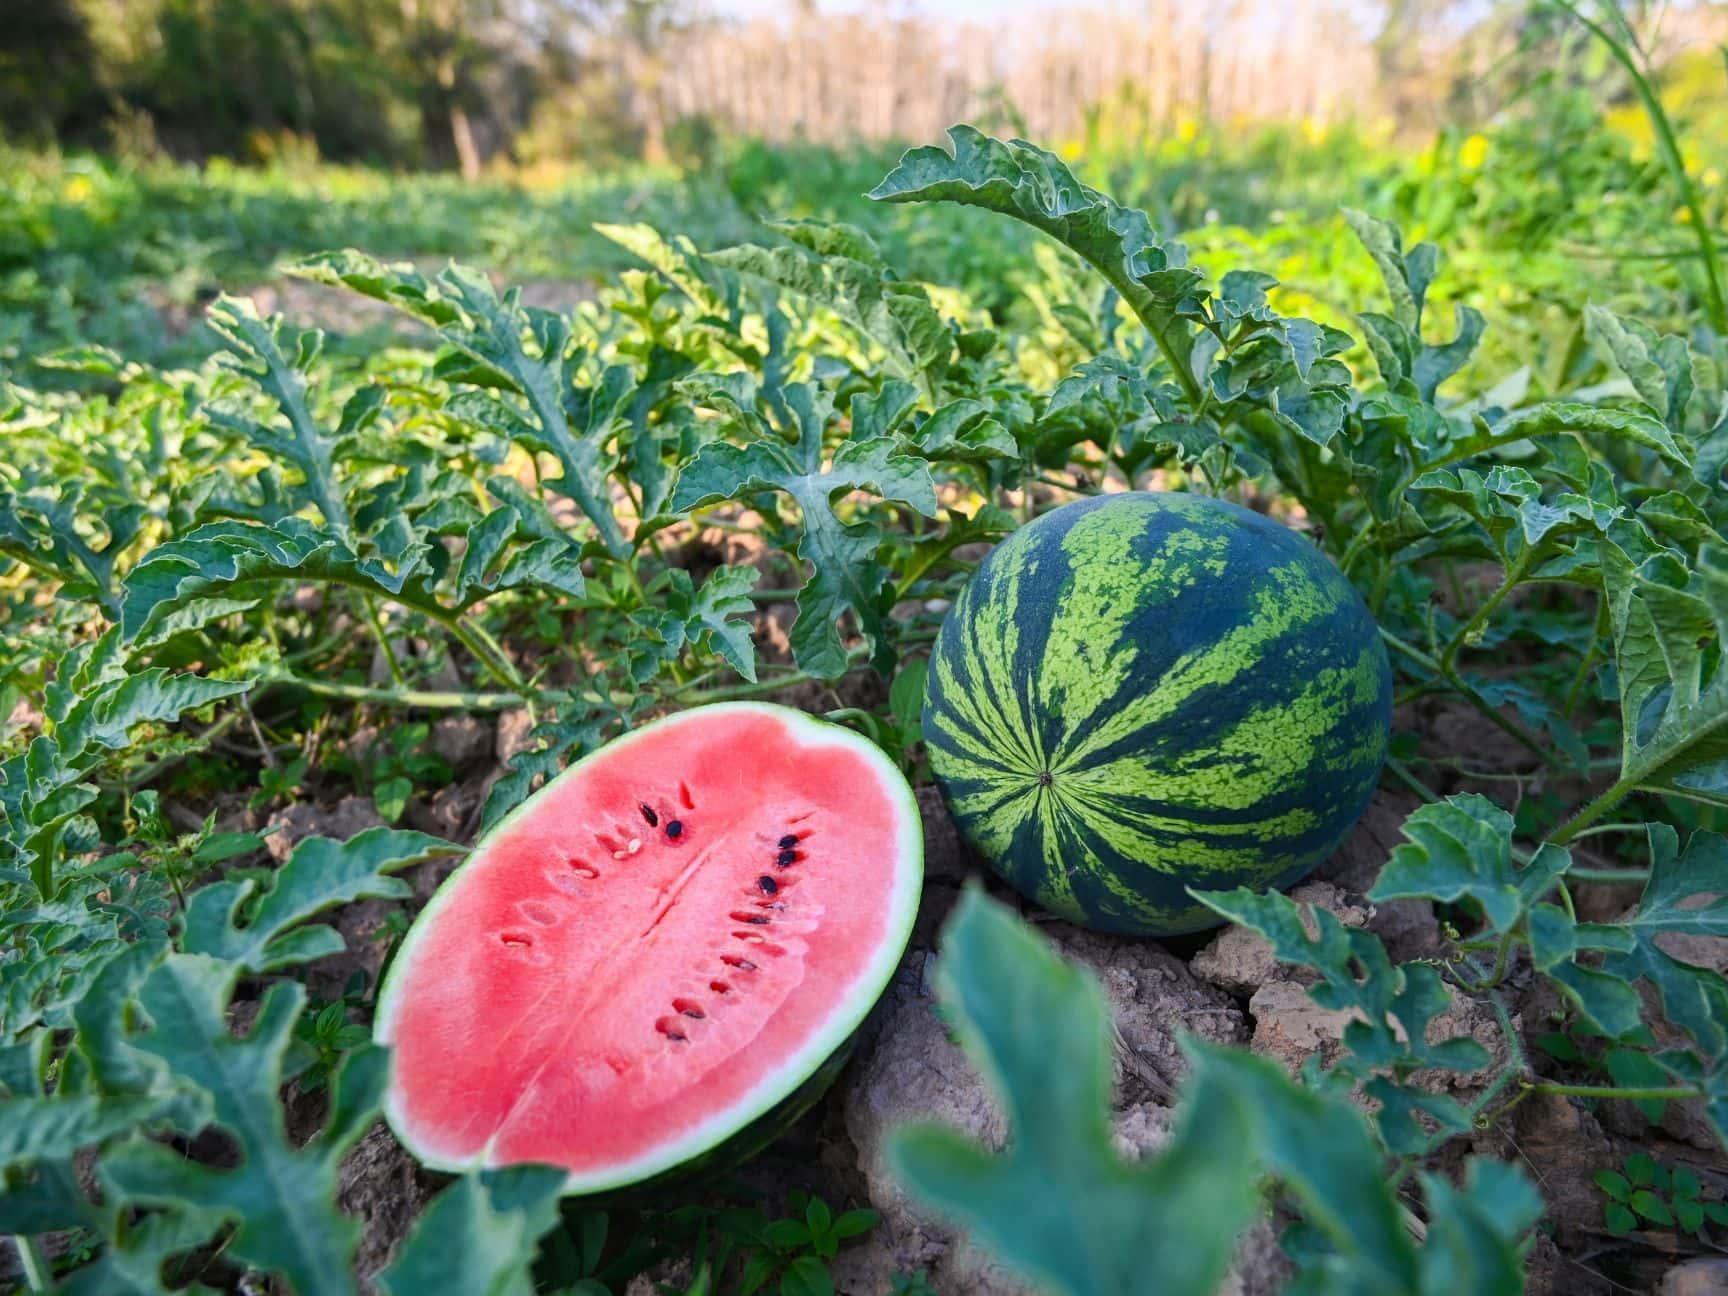watermelon: (376, 686, 935, 1229), (928, 490, 1406, 946)
